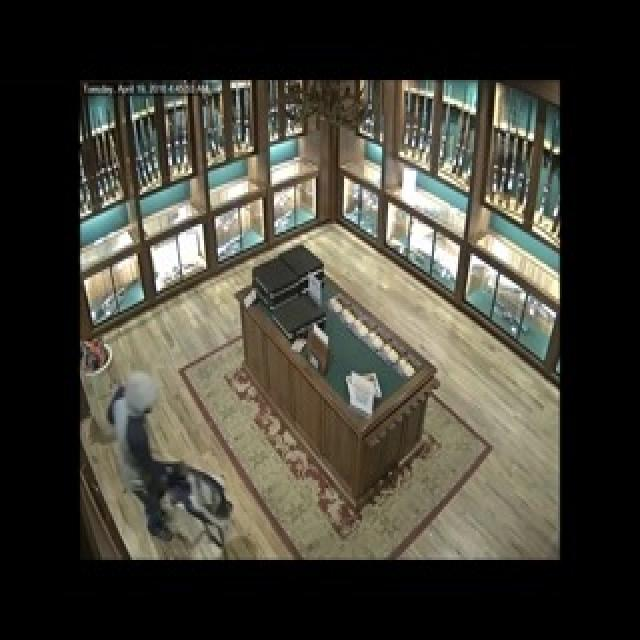thief: (100, 368, 195, 552)
